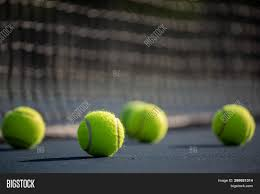tennis_ball: (78, 109, 125, 160), (1, 105, 47, 152), (213, 103, 256, 148), (126, 103, 169, 146)
